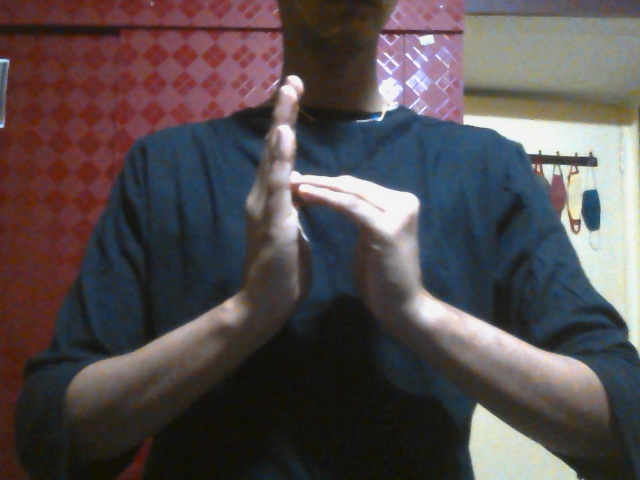Z: (230, 74, 430, 366)
